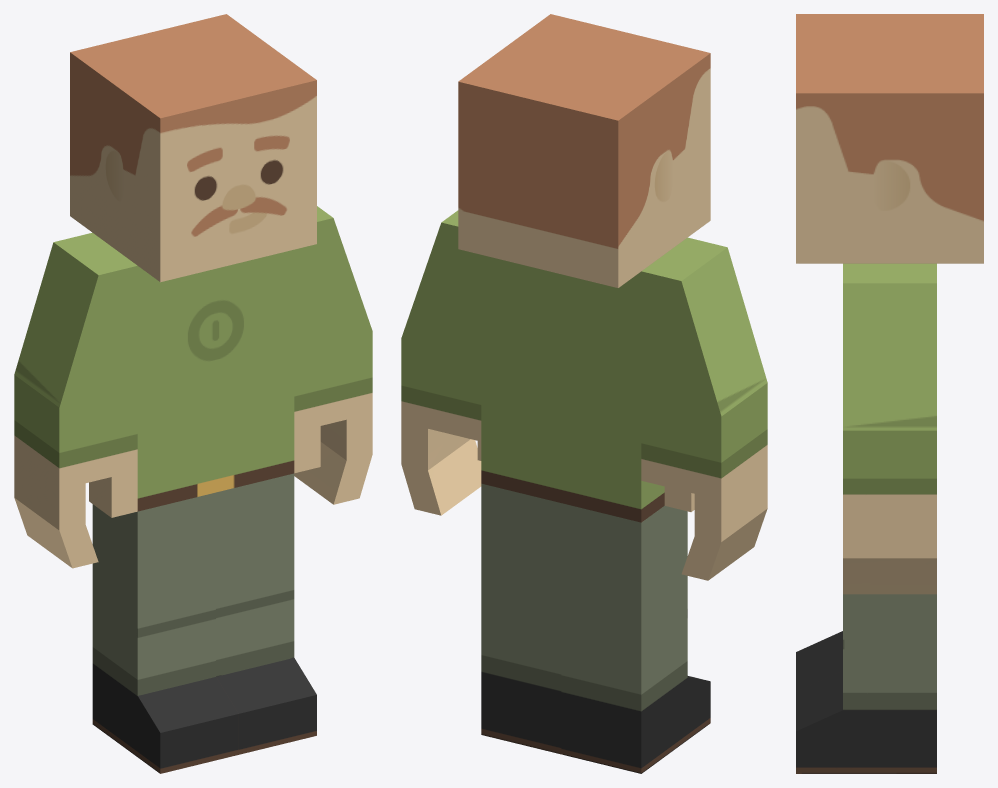
Rendered from man2.gltf.
3 views of the same model, side by side, from view 1: azimuth 30°, elevation 25°; view 2: azimuth 150°, elevation 25°; view 3: azimuth 270°, elevation 25° (orthographic). The views are drawn at different scales.
Visible parts, largest first — view 1: Head1, Body1, ArmRight1, LegRight1, LegLeft1, ArmLeft1; view 2: Head1, Body1, ArmRight1, LegRight1, LegLeft1, ArmLeft1; view 3: Head1, ArmLeft1, LegLeft1, LegRight1.
Boxes of the visible parts, <box> form: Head1: <box>70,14,316,282</box>; Body1: <box>137,249,294,511</box>; ArmRight1: <box>14,232,137,568</box>; LegRight1: <box>92,492,238,773</box>; LegLeft1: <box>216,473,316,754</box>; ArmLeft1: <box>294,206,372,504</box>; Head1: <box>458,14,710,287</box>; Body1: <box>481,255,664,522</box>; ArmRight1: <box>641,237,767,580</box>; LegRight1: <box>561,503,710,773</box>; LegLeft1: <box>481,483,561,754</box>; ArmLeft1: <box>401,210,481,515</box>; Head1: <box>796,14,983,263</box>; ArmLeft1: <box>843,263,936,594</box>; LegLeft1: <box>796,594,936,773</box>; LegRight1: <box>796,631,842,691</box>.
Size of the model in its own units: 8 by 16 by 4.
Materials: 1 (1 with a texture image).
